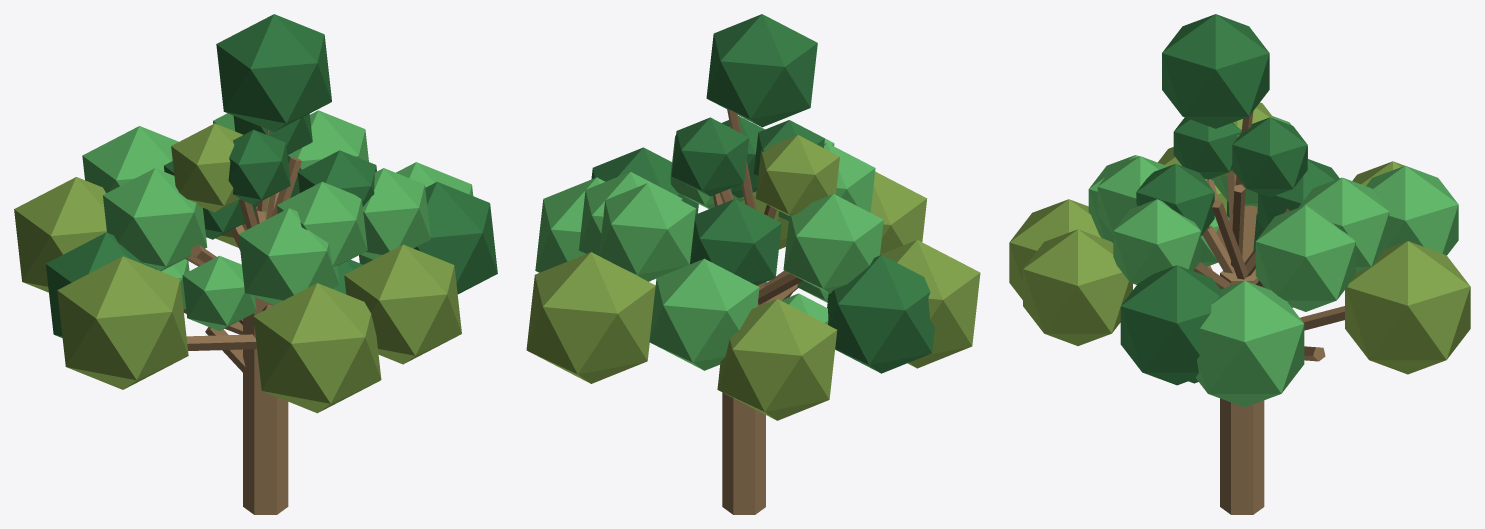
Rendered from Tree_02.glb.
3 views of the same model, side by side, from view 1: azimuth 30°, elevation 25°; view 2: azimuth 150°, elevation 25°; view 3: azimuth 270°, elevation 25° (orthographic). The views are drawn at different scales.
Visible parts, largest first — view 1: T02_Sphere_09, T02_Sphere_05, T02_Sphere_03, T02_Sphere_10, T02_Sphere_18, T02_Trunk, T02_Sphere_14, T02_Sphere_08, T02_Sphere_06, T02_Sphere_15, T02_Sphere_23, T02_Sphere_19 (+10 smaller); view 2: T02_Sphere_07, T02_Sphere_08, T02_Sphere_03, T02_Sphere_13, T02_Sphere_12, T02_Sphere_20, T02_Sphere_18, T02_Sphere_09, T02_Sphere_17, T02_Sphere_23, T02_Trunk, T02_Sphere_22 (+11 smaller); view 3: T02_Sphere_07, T02_Sphere_11, T02_Sphere_03, T02_Sphere_10, T02_Sphere_06, T02_Sphere_16, T02_Sphere_12, T02_Sphere_15, T02_Trunk, T02_Sphere_22, T02_Sphere_20, T02_Sphere_05 (+11 smaller).
Part boxes in pixels (<box>): T02_Sphere_09: <box>57,256,188,389</box>; T02_Sphere_05: <box>253,283,381,413</box>; T02_Sphere_03: <box>216,14,331,131</box>; T02_Sphere_10: <box>344,244,461,364</box>; T02_Sphere_18: <box>103,168,207,271</box>; T02_Trunk: <box>243,297,288,514</box>; T02_Sphere_14: <box>238,208,339,304</box>; T02_Sphere_08: <box>14,177,106,292</box>; T02_Sphere_06: <box>414,181,497,294</box>; T02_Sphere_15: <box>360,168,430,259</box>; T02_Sphere_23: <box>171,123,242,212</box>; T02_Sphere_19: <box>276,181,367,266</box>; T02_Sphere_07: <box>526,252,655,383</box>; T02_Sphere_08: <box>717,299,837,420</box>; T02_Sphere_03: <box>706,14,817,127</box>; T02_Sphere_13: <box>827,255,934,373</box>; T02_Sphere_12: <box>649,258,759,370</box>; T02_Sphere_20: <box>599,183,695,281</box>; T02_Sphere_18: <box>783,194,883,293</box>; T02_Sphere_09: <box>880,240,980,368</box>; T02_Sphere_17: <box>690,199,781,285</box>; T02_Sphere_23: <box>756,135,839,215</box>; T02_Trunk: <box>722,282,765,514</box>; T02_Sphere_22: <box>671,117,748,196</box>; T02_Sphere_07: <box>1345,241,1470,374</box>; T02_Sphere_11: <box>1196,280,1304,407</box>; T02_Sphere_03: <box>1162,14,1269,128</box>; T02_Sphere_10: <box>1023,229,1132,345</box>; T02_Sphere_06: <box>1120,265,1220,385</box>; T02_Sphere_16: <box>1255,205,1355,311</box>; T02_Sphere_12: <box>1366,165,1458,255</box>; T02_Sphere_15: <box>1113,199,1200,284</box>; T02_Trunk: <box>1220,269,1264,514</box>; T02_Sphere_22: <box>1232,117,1307,197</box>; T02_Sphere_20: <box>1298,177,1389,272</box>; T02_Sphere_05: <box>1009,199,1101,299</box>.
Size of the model in its own units: 2.6 by 2.94 by 2.5.
